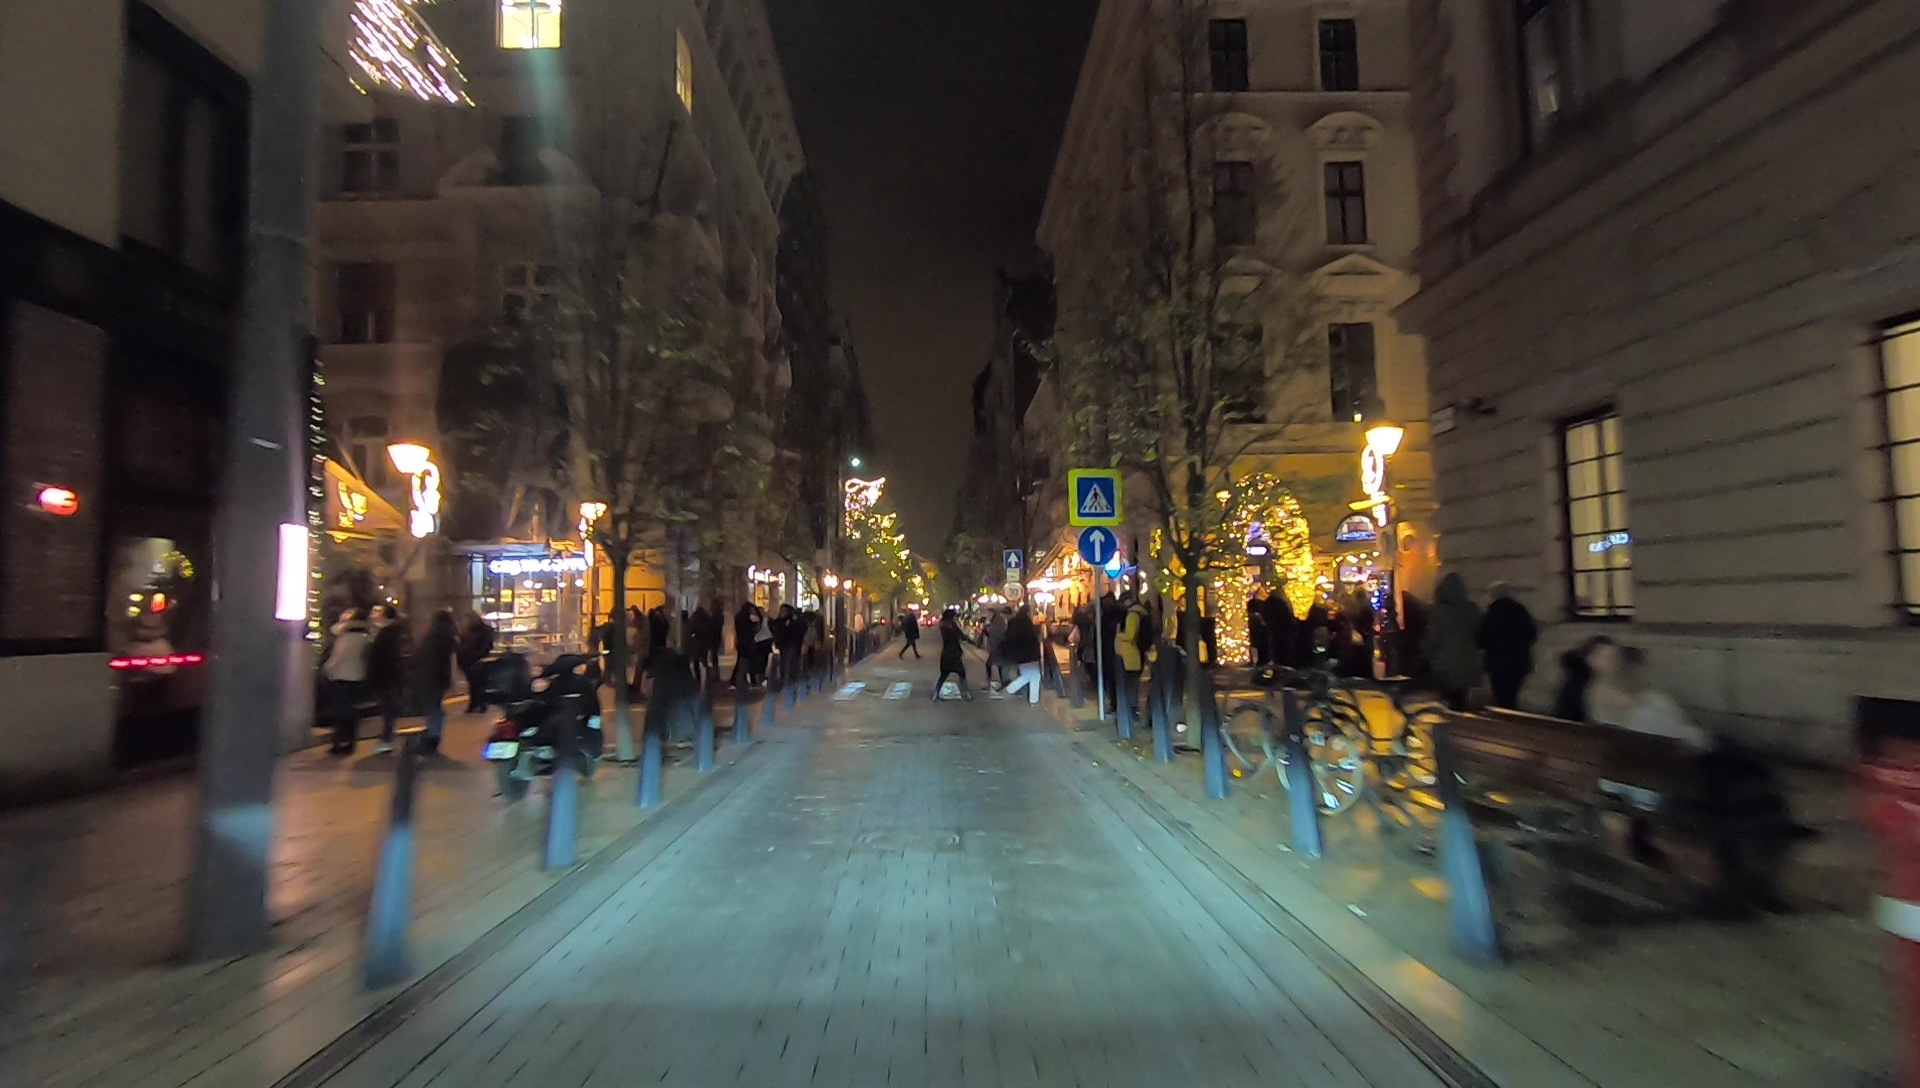person: (1425, 568, 1477, 755), (1481, 580, 1535, 717), (413, 610, 454, 761), (371, 605, 408, 761), (327, 609, 363, 760), (458, 609, 496, 714), (934, 609, 973, 706), (1069, 602, 1104, 707), (1117, 596, 1144, 718), (1096, 590, 1121, 710), (1011, 614, 1042, 710), (983, 609, 1011, 694), (1267, 584, 1295, 672), (1308, 588, 1333, 682), (1248, 588, 1271, 675), (731, 601, 754, 684), (773, 603, 796, 683), (690, 603, 708, 678), (649, 606, 665, 683), (900, 609, 921, 661)
